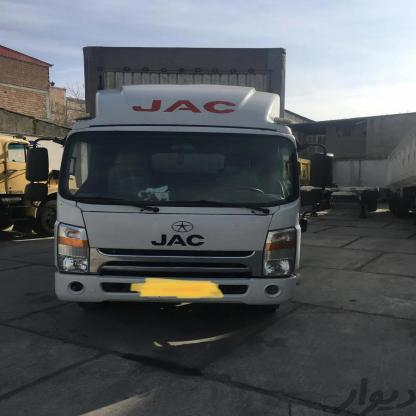Truck: (39, 43, 318, 326), (0, 129, 70, 245)
